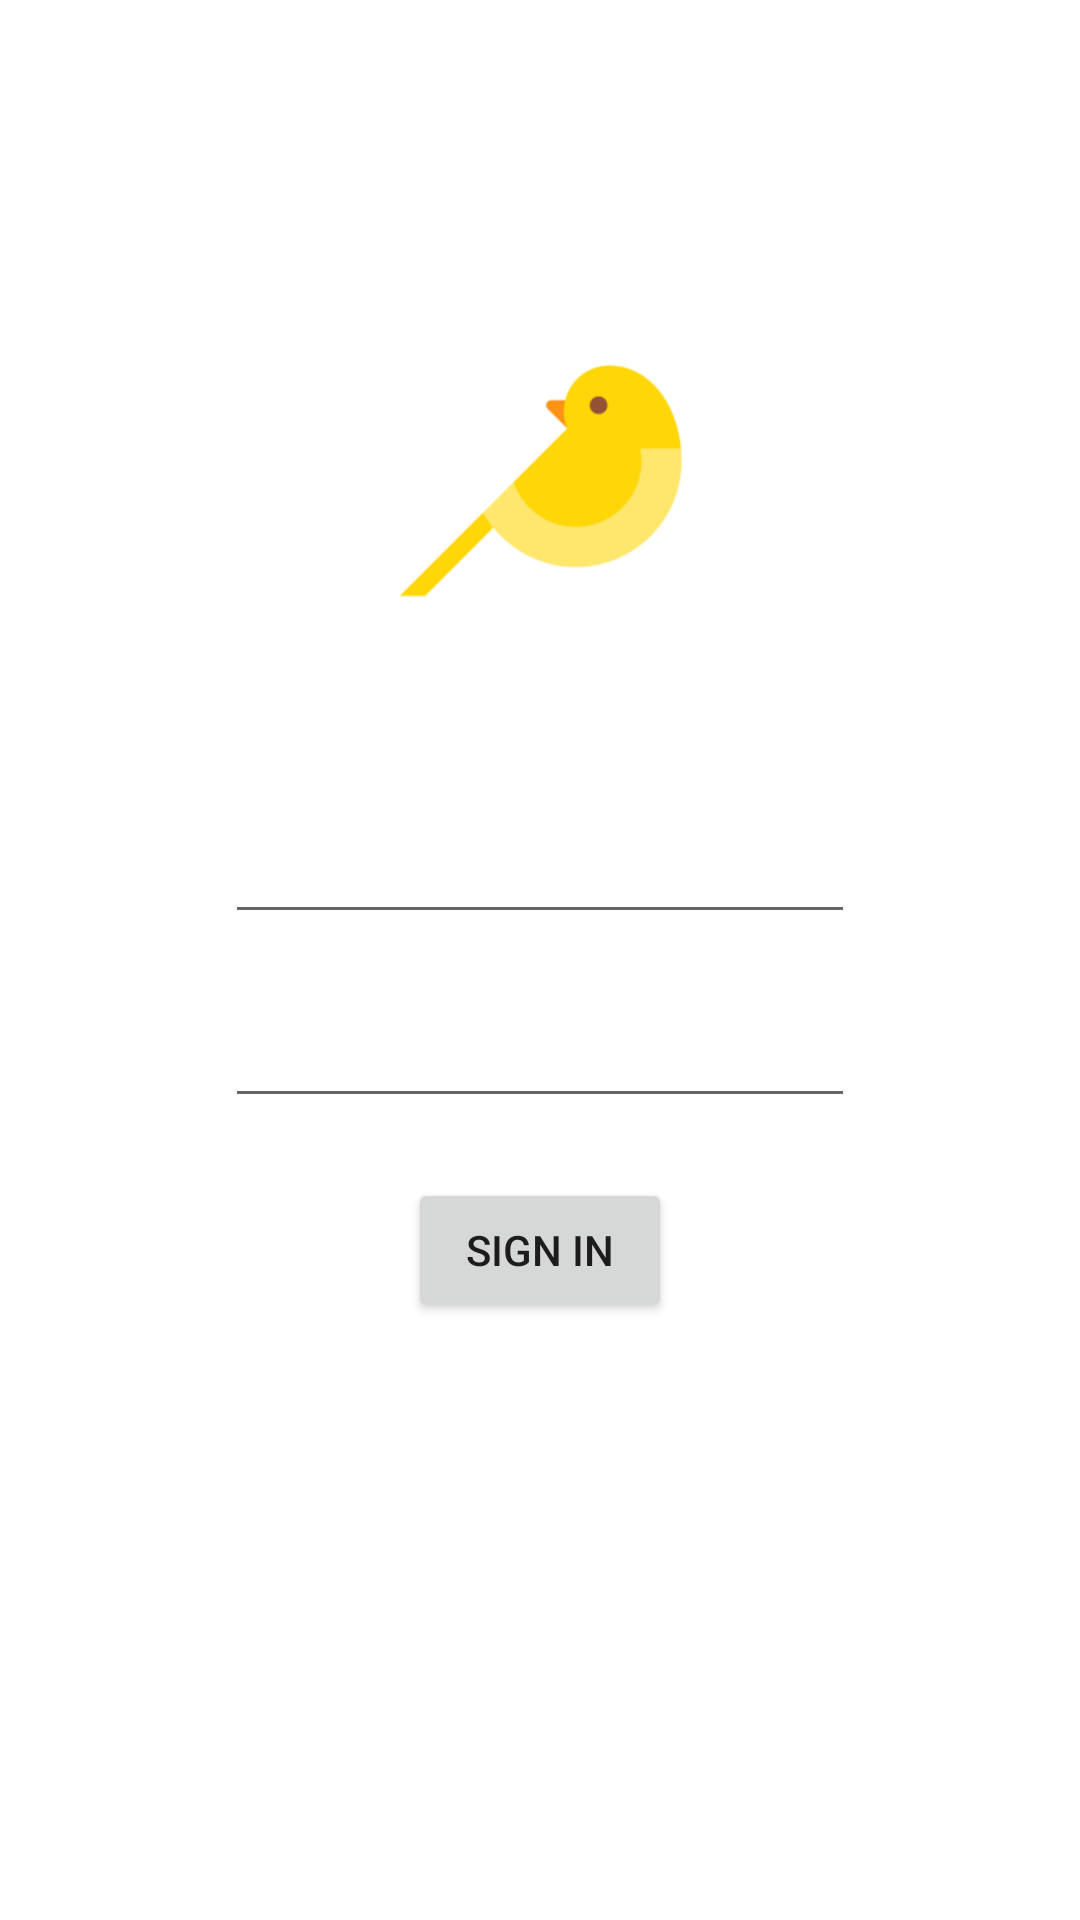

Where icons sit on this 1080×1920 app screen, as (x1, y1, x2, y2):
canary: (399, 364, 682, 597)
